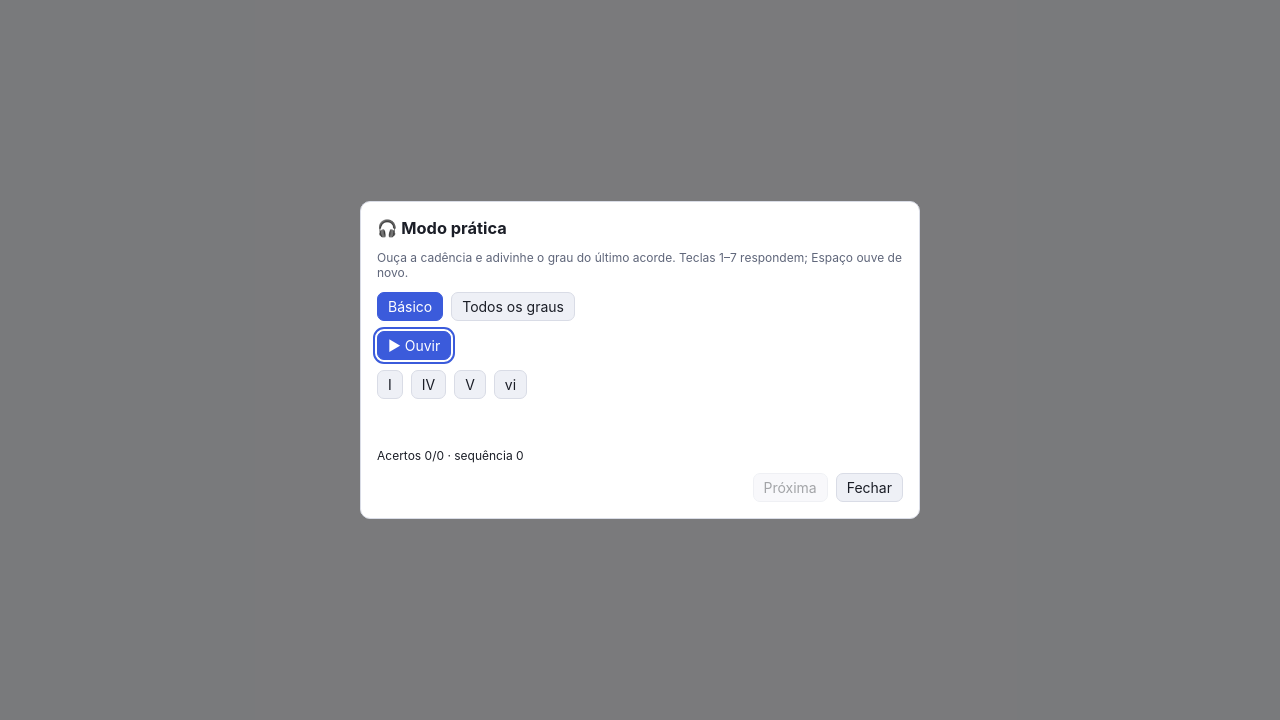
Modo prática › responder certo incrementa o placar; errado zera a sequência
The width and height of the screenshot is (1280, 720).
Check: the text named "Placar" reads "Acertos 0/0 · sequência 0", box top-left (377, 448), bottom-right (524, 463)
Step 1. Click the button "I" → [390, 384], box top-left (377, 370), bottom-right (403, 399)
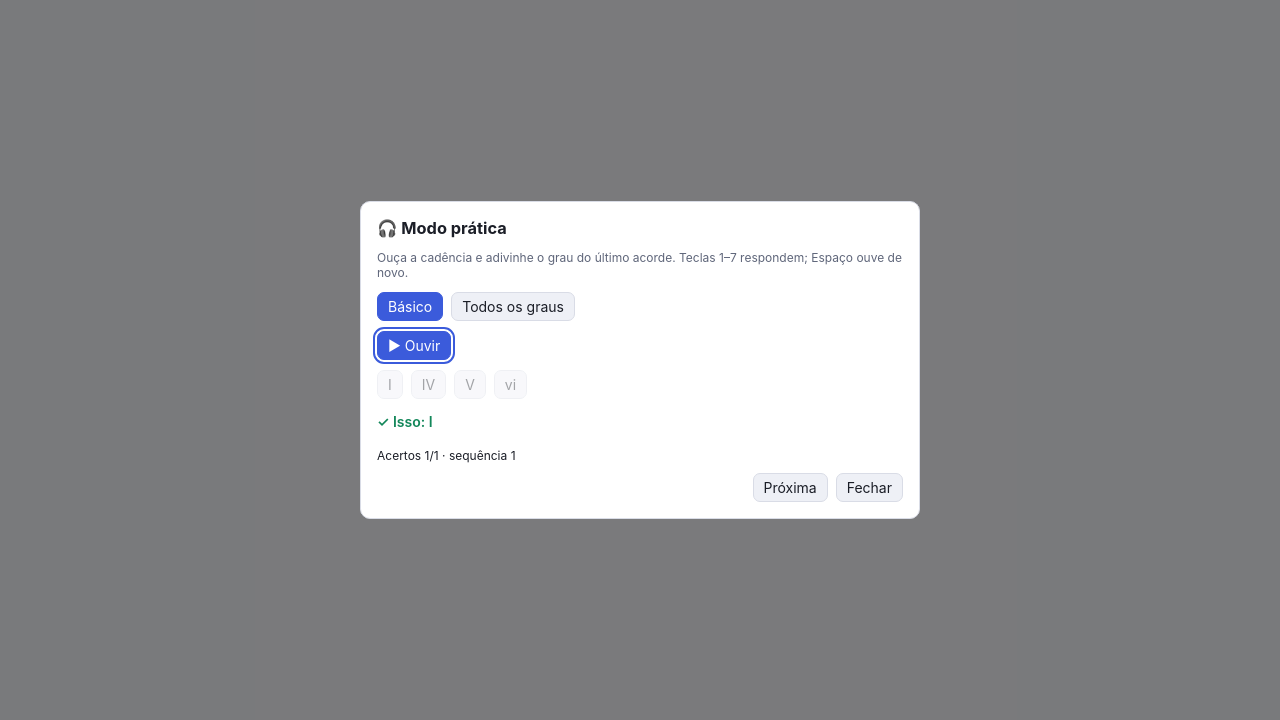
Check: the text named "Placar" reads "Acertos 1/1 · sequência 1", box top-left (377, 448), bottom-right (516, 463)
Check: the message reads "✓ Isso: I", box top-left (377, 413), bottom-right (432, 430)
Step 2. Click the button "Próxima" → [790, 488], box top-left (752, 473), bottom-right (828, 502)
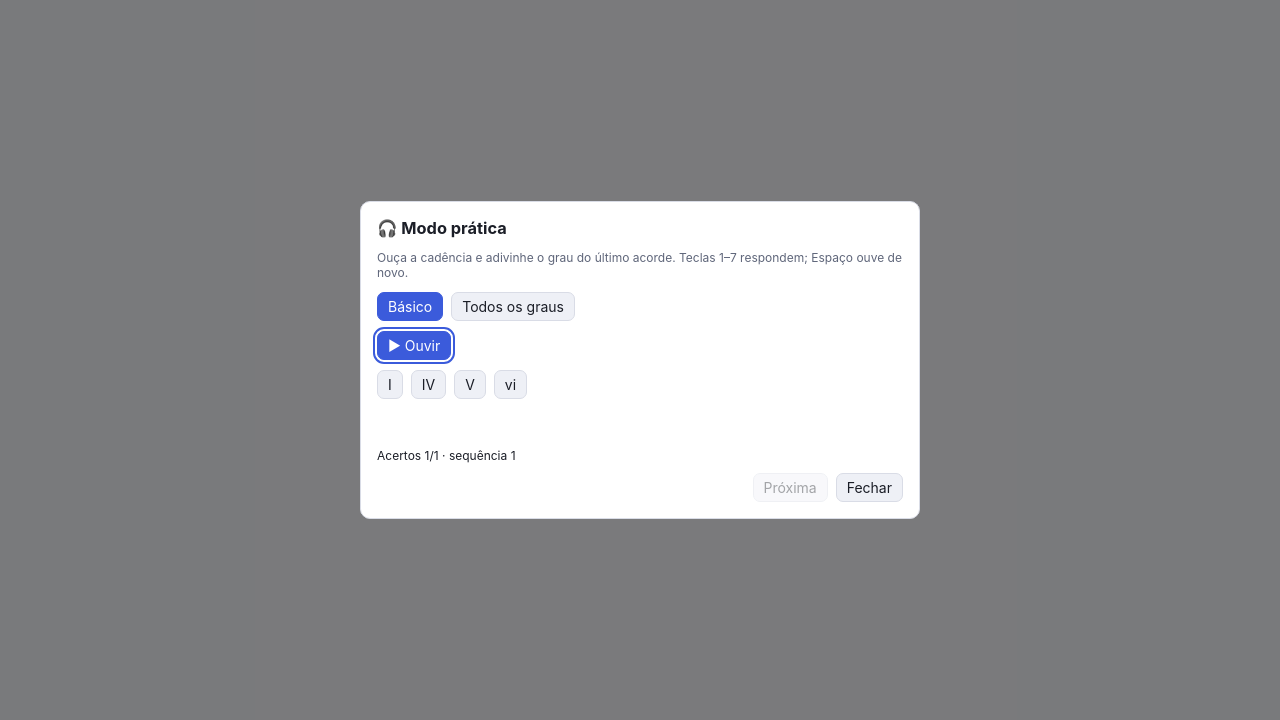
Step 3. Click the button "I" → [390, 384], box top-left (377, 370), bottom-right (403, 399)
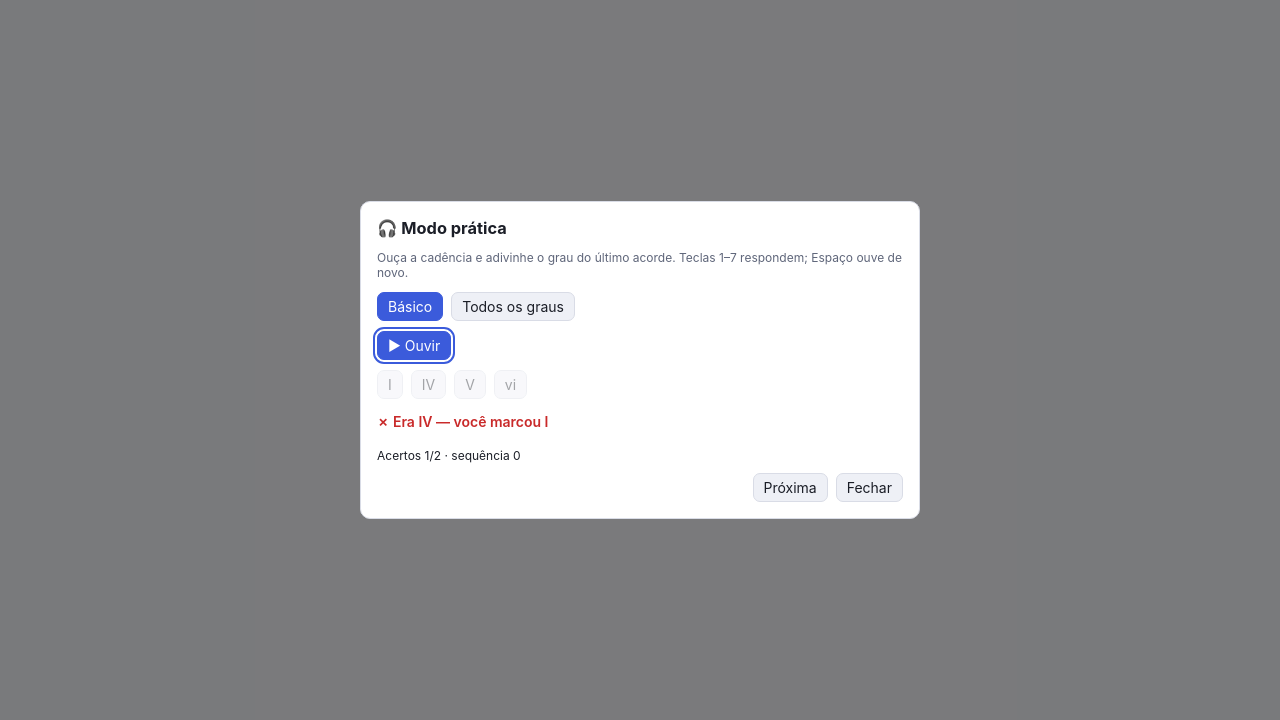
Check: the message reads "✗ Era IV — você marcou I", box top-left (377, 413), bottom-right (548, 430)
Check: the text named "Placar" reads "Acertos 1/2 · sequência 0", box top-left (377, 448), bottom-right (521, 463)
